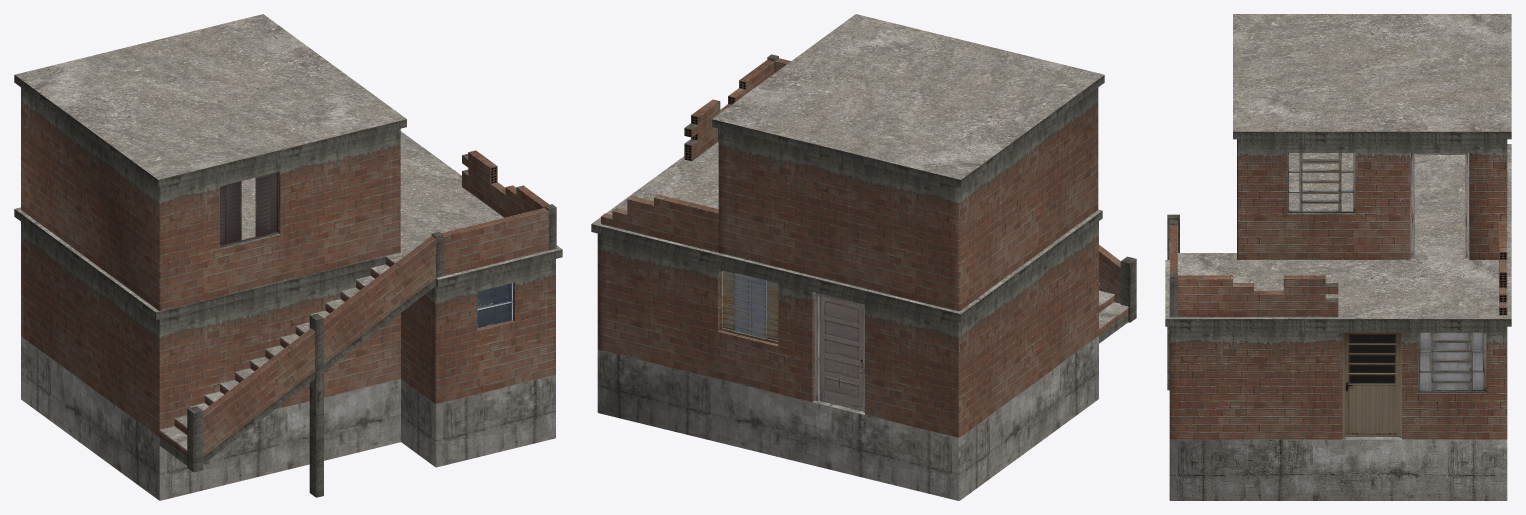
The model's file is favela.glb.
3 renders of one model, left to right at view 1: azimuth 30°, elevation 25°; view 2: azimuth 150°, elevation 25°; view 3: azimuth 270°, elevation 25°, orthographic. The views are drawn at different scales.
Parts seen in each view (by area): view 1: house01_brickwall1_0, house01_concretefloor_0, house01_concretebase_0, house01_metalwindow2_0, house01_windows2_0; view 2: house01_brickwall1_0, house01_concretefloor_0, house01_concretebase_0, house01_wooddoor1_0, house01_metalwindow1_0; view 3: house01_brickwall1_0, house01_concretefloor_0, house01_concretebase_0, house01_metaldoor01_0, house01_window1_0, house01_wooddoor1_0.
Boxes of the visible parts, x1=… form: house01_brickwall1_0: x1=14, y1=75, x2=562, y2=497; house01_concretefloor_0: x1=15, y1=14, x2=562, y2=450; house01_concretebase_0: x1=21, y1=336, x2=555, y2=500; house01_metalwindow2_0: x1=220, y1=172, x2=278, y2=247; house01_windows2_0: x1=477, y1=283, x2=512, y2=328; house01_brickwall1_0: x1=591, y1=54, x2=1136, y2=437; house01_concretefloor_0: x1=592, y1=14, x2=1128, y2=328; house01_concretebase_0: x1=597, y1=336, x2=1098, y2=500; house01_wooddoor1_0: x1=814, y1=292, x2=864, y2=412; house01_metalwindow1_0: x1=720, y1=269, x2=778, y2=343; house01_brickwall1_0: x1=1165, y1=131, x2=1511, y2=439; house01_concretefloor_0: x1=1165, y1=14, x2=1511, y2=318; house01_concretebase_0: x1=1169, y1=437, x2=1507, y2=500; house01_metaldoor01_0: x1=1342, y1=332, x2=1401, y2=437; house01_window1_0: x1=1287, y1=153, x2=1486, y2=392; house01_wooddoor1_0: x1=1410, y1=153, x2=1469, y2=258.
Size of the model in its own units: 9.64 by 8.07 by 8.07.
10 materials, 10 textured.
